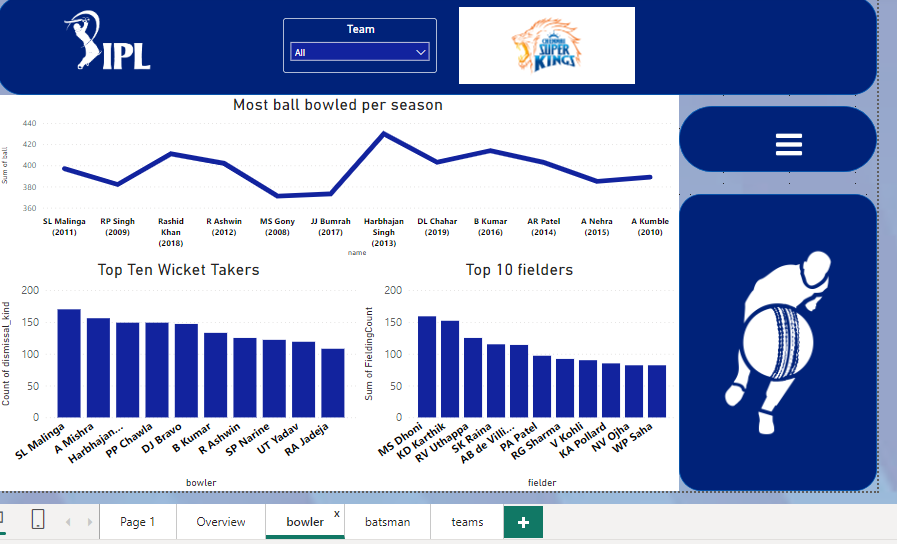

What the dashboard file says about the page in this screenshot:
{"tool":"powerbi","page":{"name":"bowler","canvas":[1280,720],"ordinal":1},"visuals":[{"type":"shape","box":[992,288,288,432],"z":0},{"type":"shape","box":[0,0,1280,144],"z":1000},{"type":"image","box":[64,16,192,96],"z":2000},{"type":"slicer","title":"Team","fields":{"Values":["matches.team1"]},"box":[416,32,224,80],"z":3000},{"type":"shape","box":[992,160,288,96],"z":4000},{"type":"image","box":[992,288,288,432],"z":5000},{"type":"lineChart","title":"Most ball bowled per season","fields":{"Category":["Most ball bowled per season.name"],"Y":["Sum(Most ball bowled per season.ball)"]},"box":[0,144,992,240],"z":6000},{"type":"columnChart","title":"Top Ten Wicket Takers","fields":{"Category":["wickets-query.bowler"],"Y":["CountNonNull(wickets-query.dismissal_kind)"]},"box":[0,384,528,336],"z":7000},{"type":"columnChart","title":"Top 10 fielders","fields":{"Category":["top fielders.fielder"],"Y":["Sum(top fielders.FieldingCount)"]},"box":[528,384,464,336],"z":8000},{"type":"image","box":[1120,176,64,64],"z":10000},{"type":"shape","box":[848,208,288,416],"z":11000},{"type":"actionButton","box":[912,240,144,72],"z":12000},{"type":"actionButton","box":[912,336,144,72],"z":13000},{"type":"actionButton","box":[912,432,144,72],"z":14000},{"type":"actionButton","box":[912,528,144,72],"z":15000},{"type":"PBI_CV_81BBAD08_3ADD_466C_8819_9FACA21A6B8F","fields":{"imageTitle":["Sheet1.team1"],"imageUrl":["All Measures.switchimage"]},"box":[672,16,256,112],"z":16000}]}

Visuals, with their boxes on the page's 1280x720 design canvas (x1, y1, x2, y2). These are canvas units, not pixel positions in the 897x544 screenshot, which may show the page scaled, cropped or inside an application window:
shape: (x1=992, y1=288, x2=1280, y2=720)
shape: (x1=0, y1=0, x2=1280, y2=144)
image: (x1=64, y1=16, x2=256, y2=112)
"Team" slicer: (x1=416, y1=32, x2=640, y2=112)
shape: (x1=992, y1=160, x2=1280, y2=256)
image: (x1=992, y1=288, x2=1280, y2=720)
"Most ball bowled per season" lineChart: (x1=0, y1=144, x2=992, y2=384)
"Top Ten Wicket Takers" columnChart: (x1=0, y1=384, x2=528, y2=720)
"Top 10 fielders" columnChart: (x1=528, y1=384, x2=992, y2=720)
image: (x1=1120, y1=176, x2=1184, y2=240)
shape: (x1=848, y1=208, x2=1136, y2=624)
actionButton: (x1=912, y1=240, x2=1056, y2=312)
actionButton: (x1=912, y1=336, x2=1056, y2=408)
actionButton: (x1=912, y1=432, x2=1056, y2=504)
actionButton: (x1=912, y1=528, x2=1056, y2=600)
PBI_CV_81BBAD08_3ADD_466C_8819_9FACA21A6B8F - Sheet1.team1 x All Measures.switchimage: (x1=672, y1=16, x2=928, y2=128)
